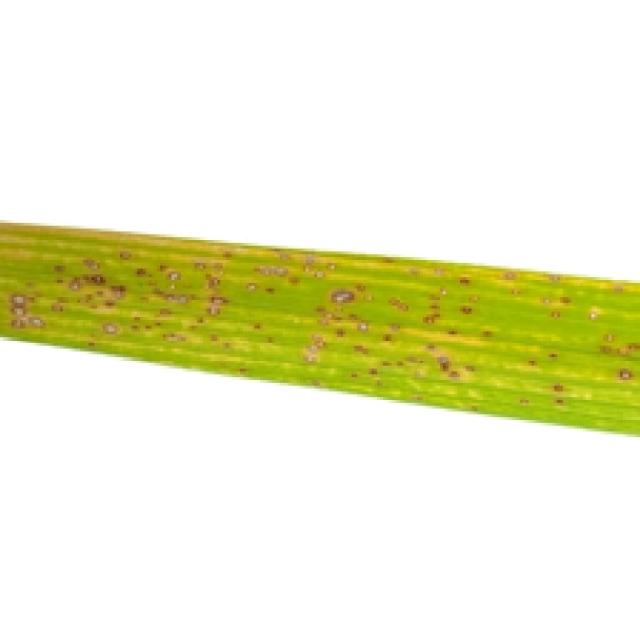Rice___Brown_Spot: (0, 219, 637, 438)
